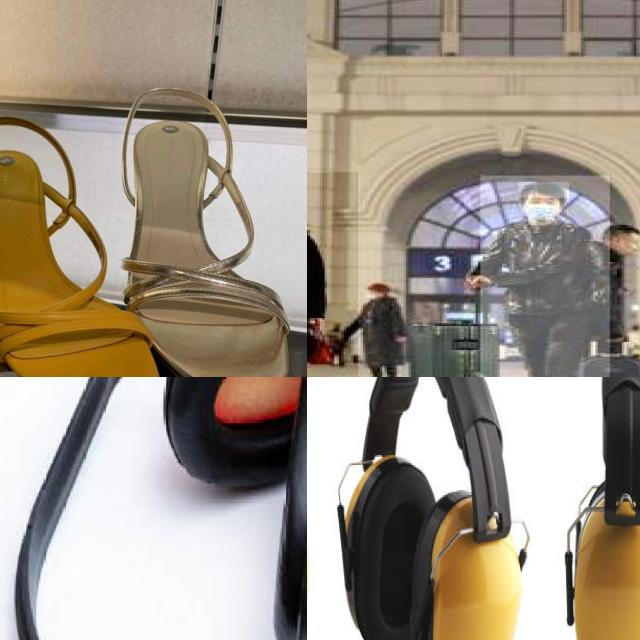Ear-protection: (40, 377, 307, 640), (323, 377, 531, 640), (550, 377, 640, 640)
Sandals: (93, 62, 307, 377), (0, 91, 169, 377), (0, 128, 102, 377)
face_mask: (524, 193, 560, 220)
face_nomask: (620, 237, 638, 256)
head_nohelmet: (519, 182, 569, 198)
person: (480, 175, 612, 377), (307, 172, 360, 377)
